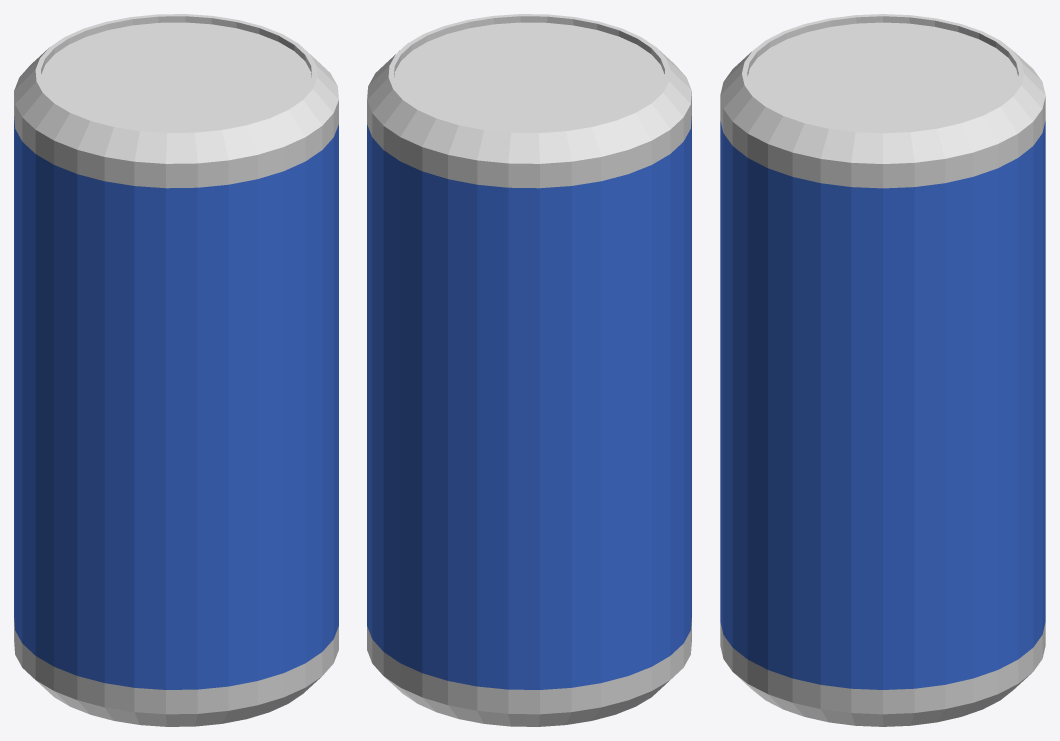
The model's file is SodaCan.fbx.
3 renders of one model, left to right at view 1: azimuth 30°, elevation 25°; view 2: azimuth 150°, elevation 25°; view 3: azimuth 270°, elevation 25°, orthographic.
Visible parts, largest first — view 1: SodaCan; view 2: SodaCan; view 3: SodaCan.
Part boxes in pixels (x1,y1,x2,y2): SodaCan: [14, 14, 338, 726]; SodaCan: [367, 14, 691, 726]; SodaCan: [720, 14, 1045, 726].
Size of the model in its own units: 200 by 403 by 200.
